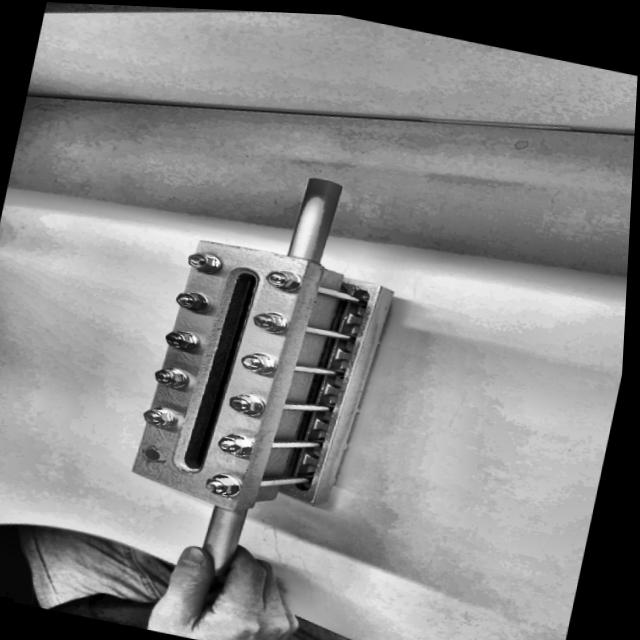ShuiWeiQi_11: (12, 116, 426, 580)
